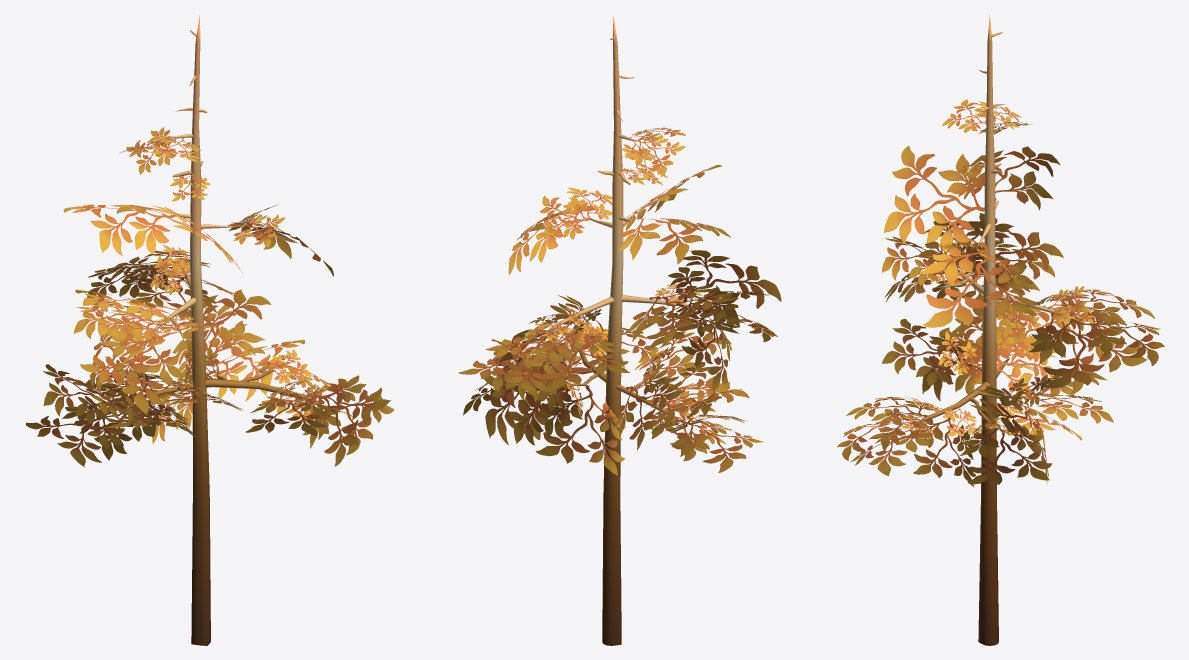
File: Tree_6.fbx
3 views of the same model, side by side, from view 1: azimuth 30°, elevation 25°; view 2: azimuth 150°, elevation 25°; view 3: azimuth 270°, elevation 25° (orthographic).
Visible parts, largest first — view 1: Foliage, Trunk6; view 2: Foliage, Trunk6; view 3: Foliage, Trunk6.
Part boxes in pixels (x1,y1,x2,y2): Foliage: (26,127,393,467); Trunk6: (124,15,309,645); Foliage: (458,127,781,475); Trunk6: (536,16,692,645); Foliage: (837,99,1164,486); Trunk6: (913,14,1084,645).
Bounding box in the file's own units: 355 × 659 × 330.
